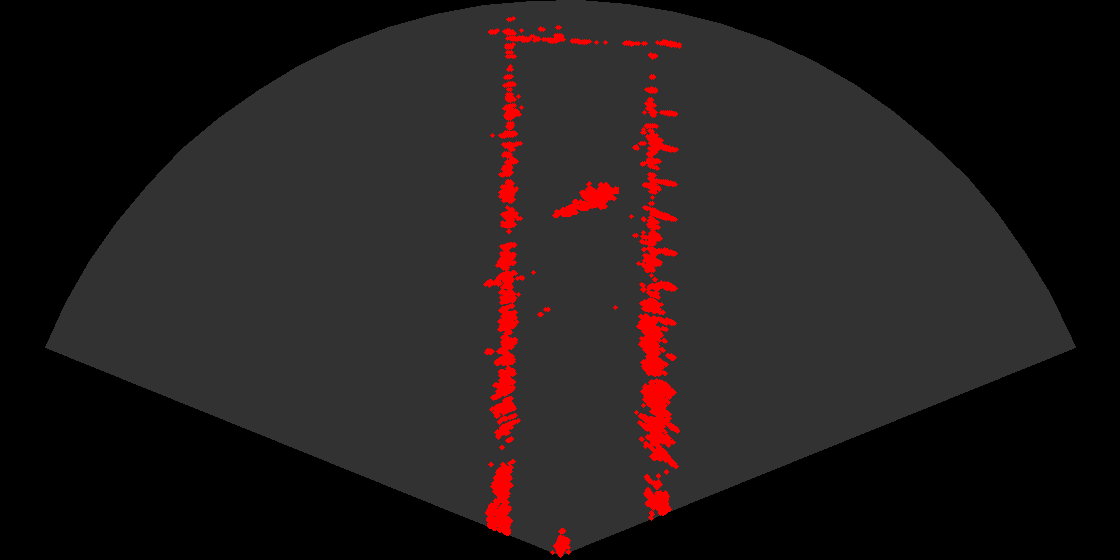frogman: (551, 175, 619, 222)
